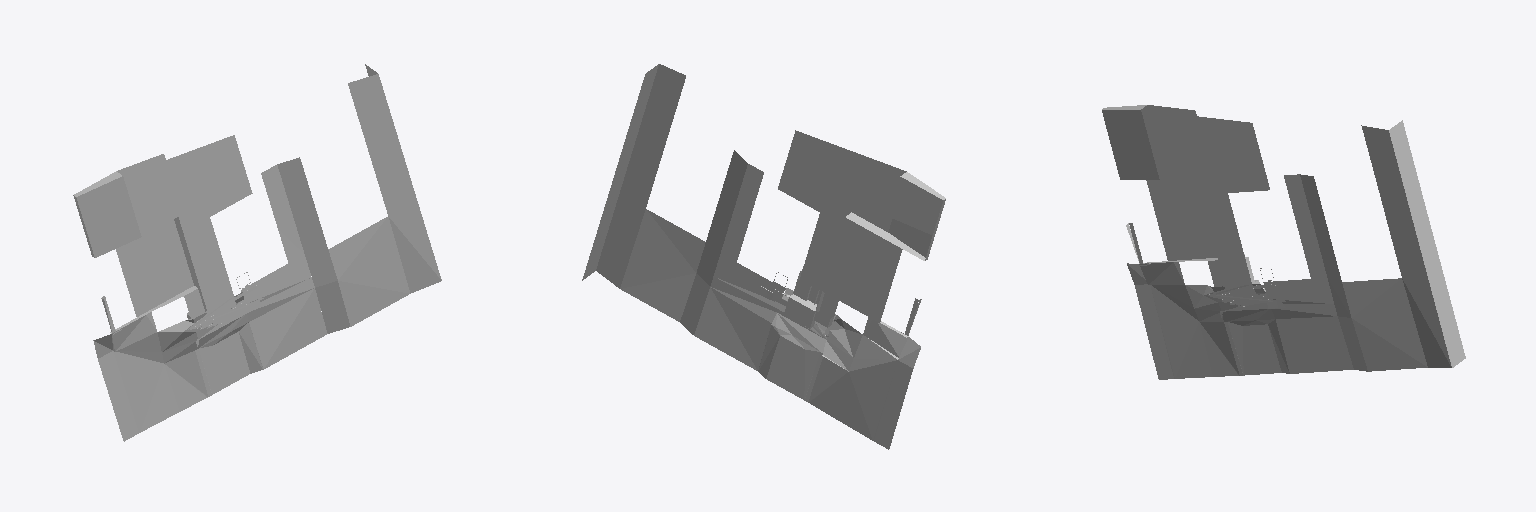
File: Site52-Terrain.obj
The picture shows the model from 3 angles: view 1: azimuth 30°, elevation 25°; view 2: azimuth 150°, elevation 25°; view 3: azimuth 330°, elevation 25°; orthographic projection.
Bounding box in the file's own units: 1111 × 943 × 74.62.